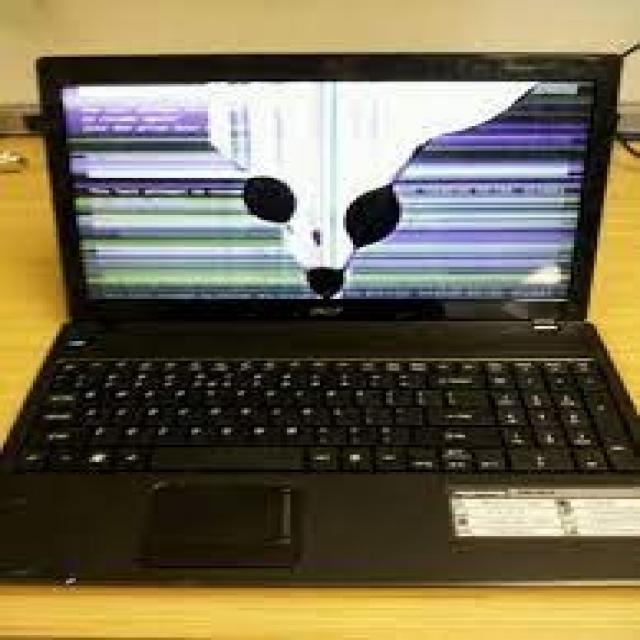Screen cracks: (191, 79, 551, 294)
